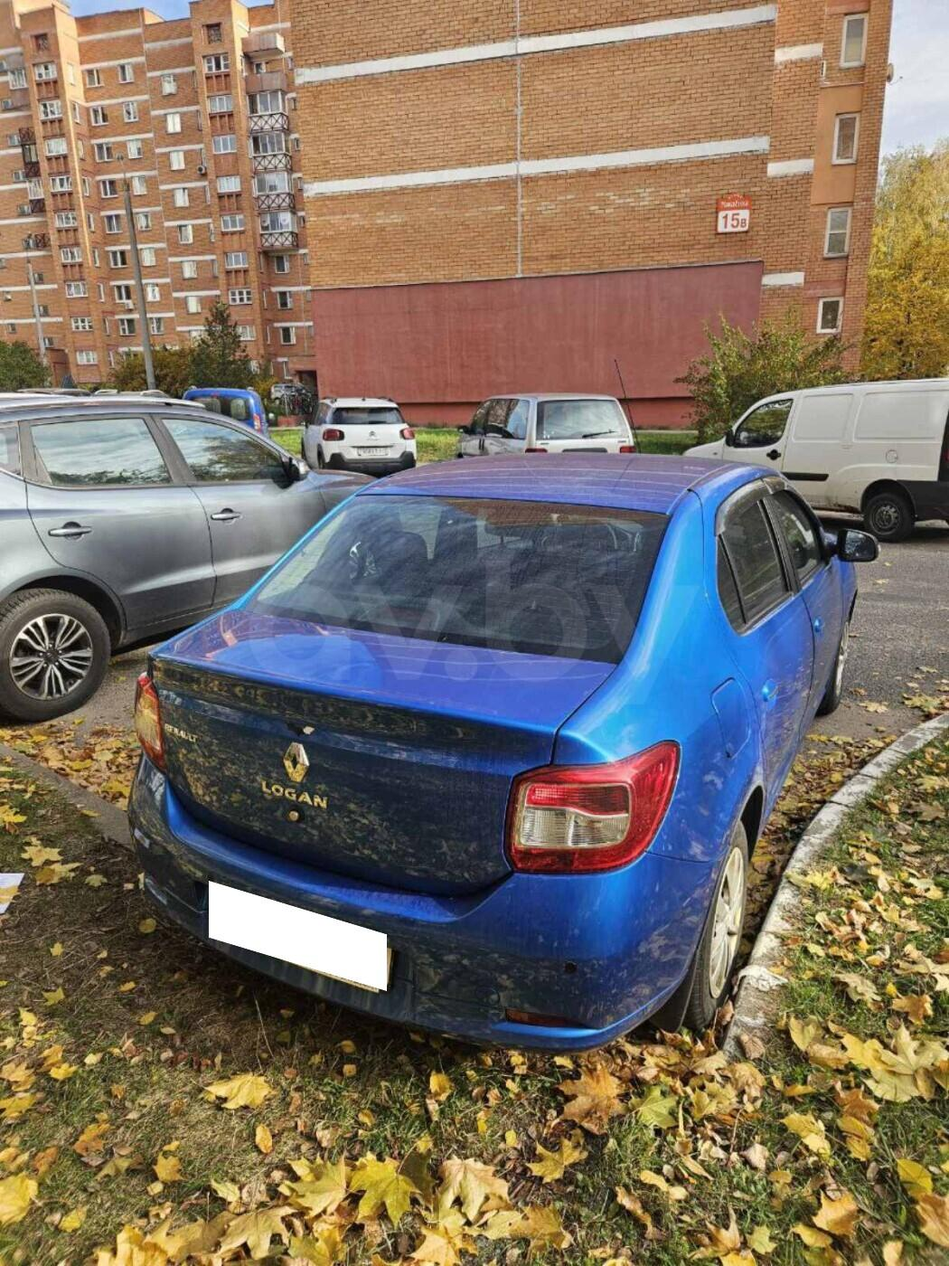Logan_2013-2018: (117, 443, 868, 1044)
